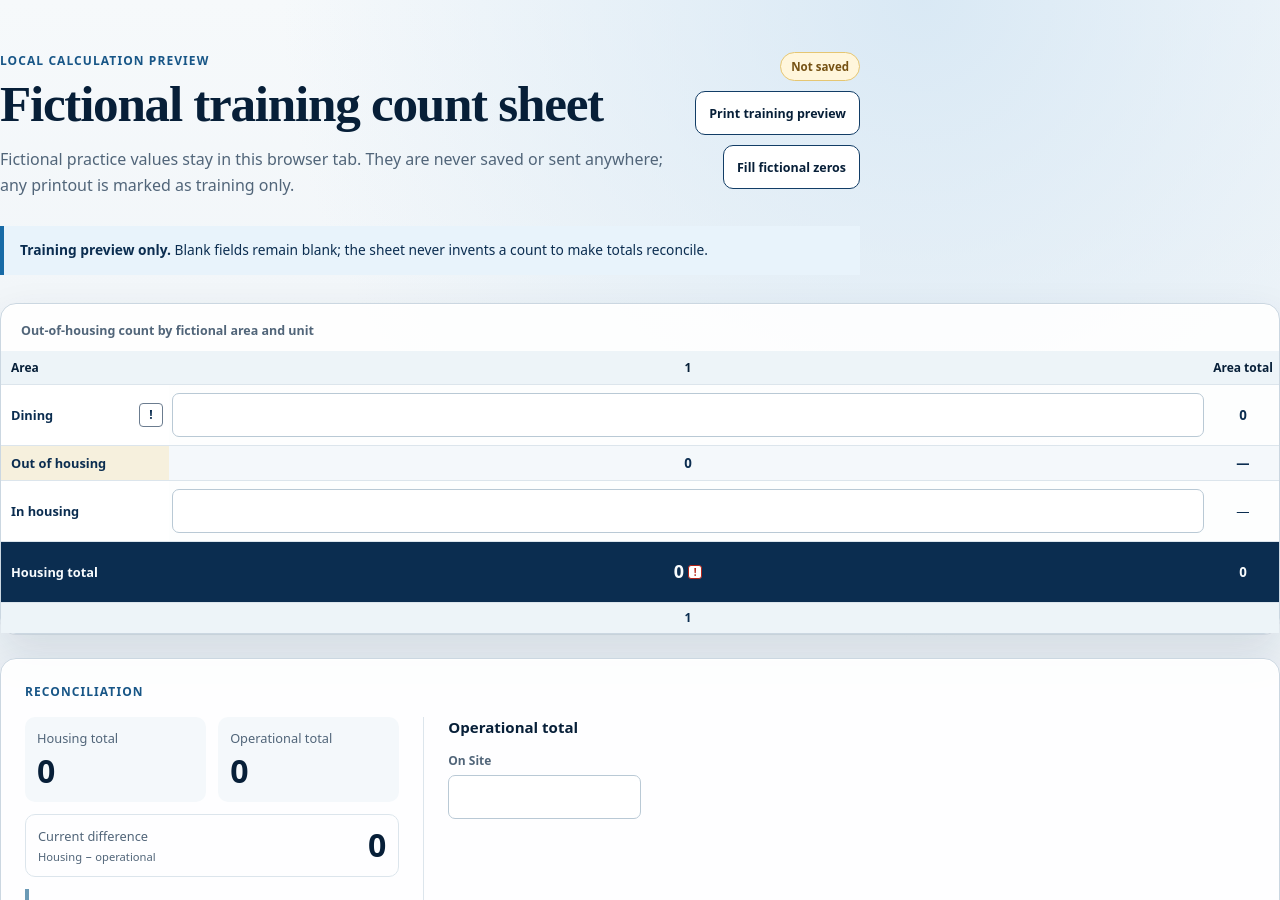
Test: CountSheetPreview › keeps an unresolved difference visible instead of changing input values
In the field named "Dining, 1": (688,415) [172, 393, 1204, 437], type "0"
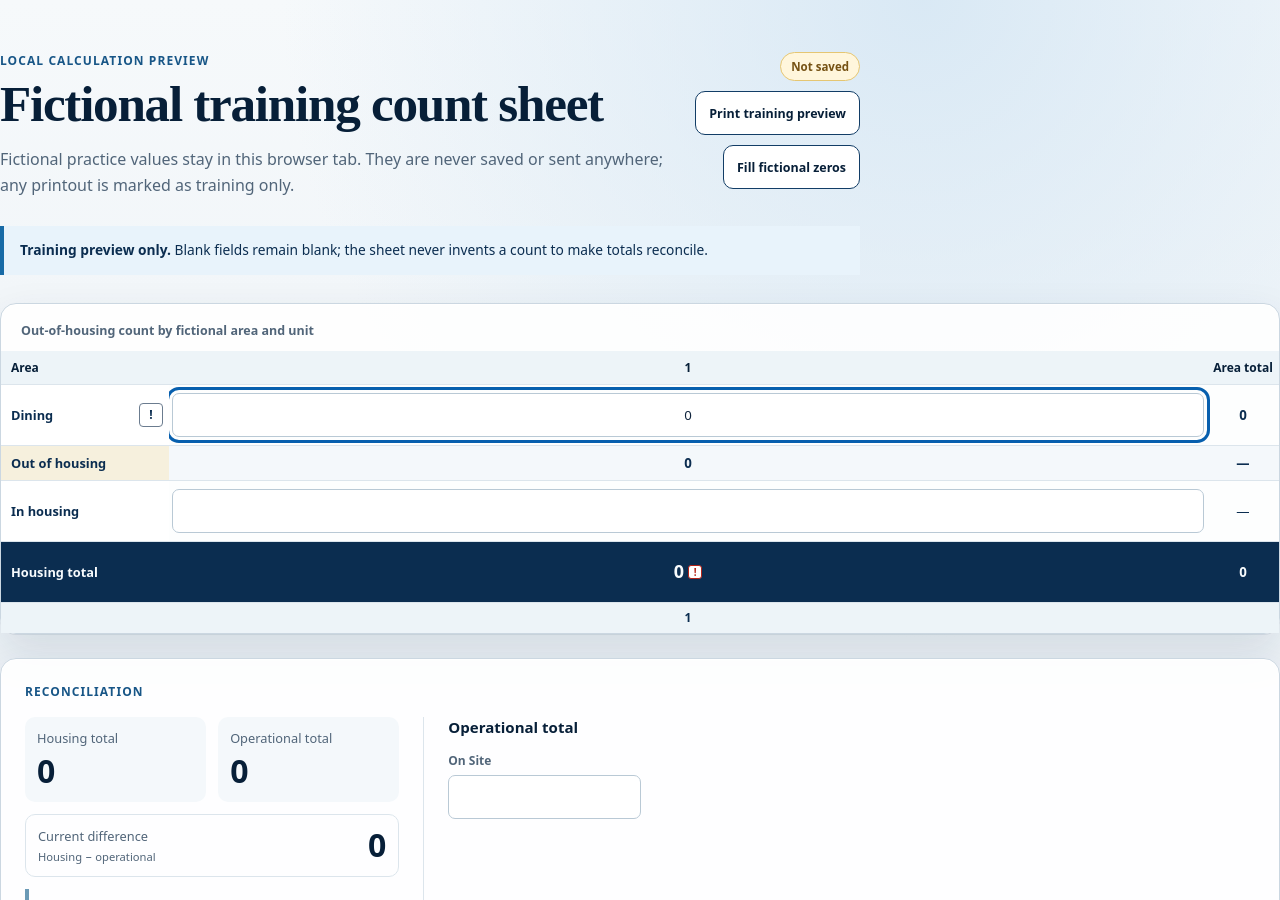
In the field named "In housing, 1": (688,511) [172, 489, 1204, 533], type "8"
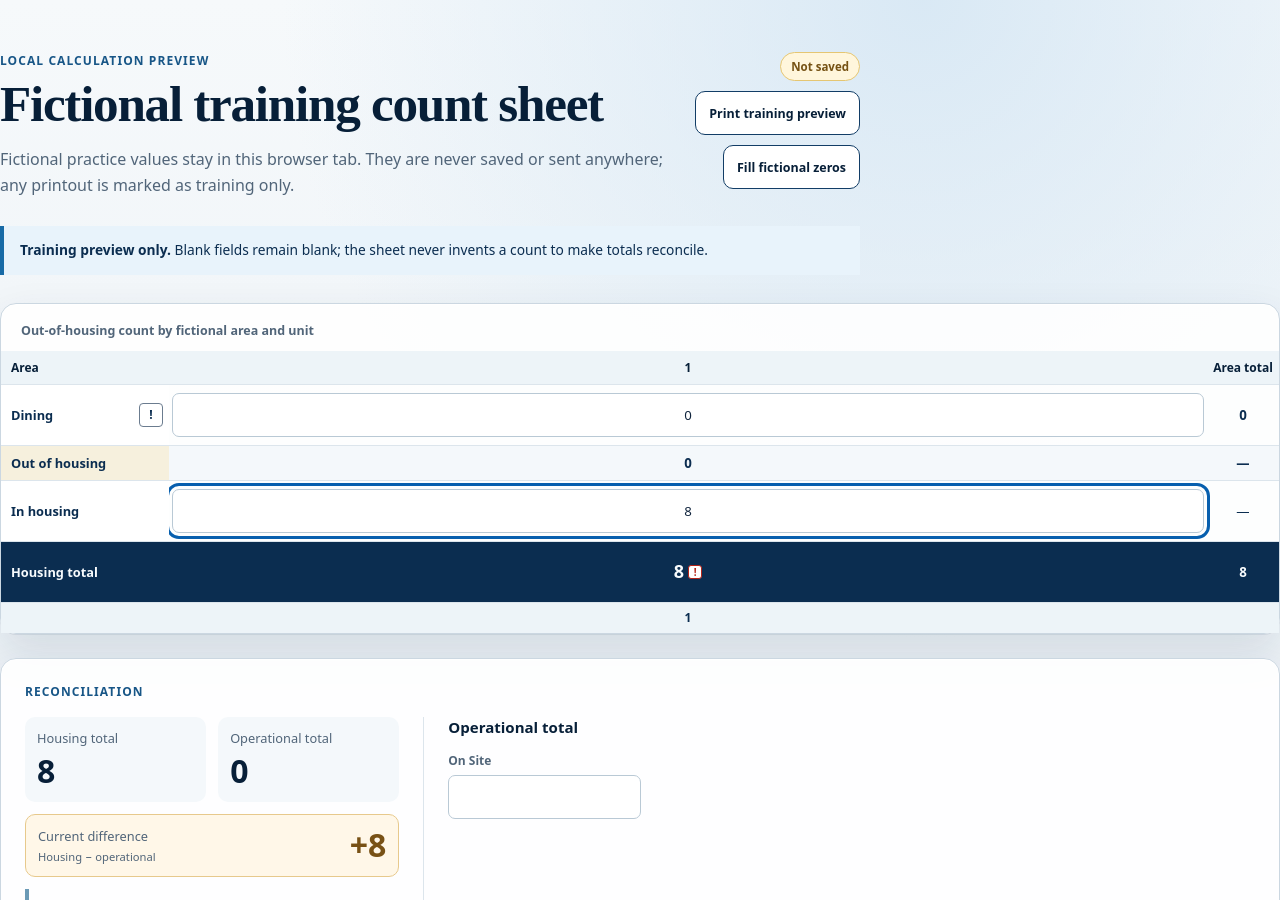
In the field named "Operational total, on site": (545,797) [448, 775, 641, 819], type "5"
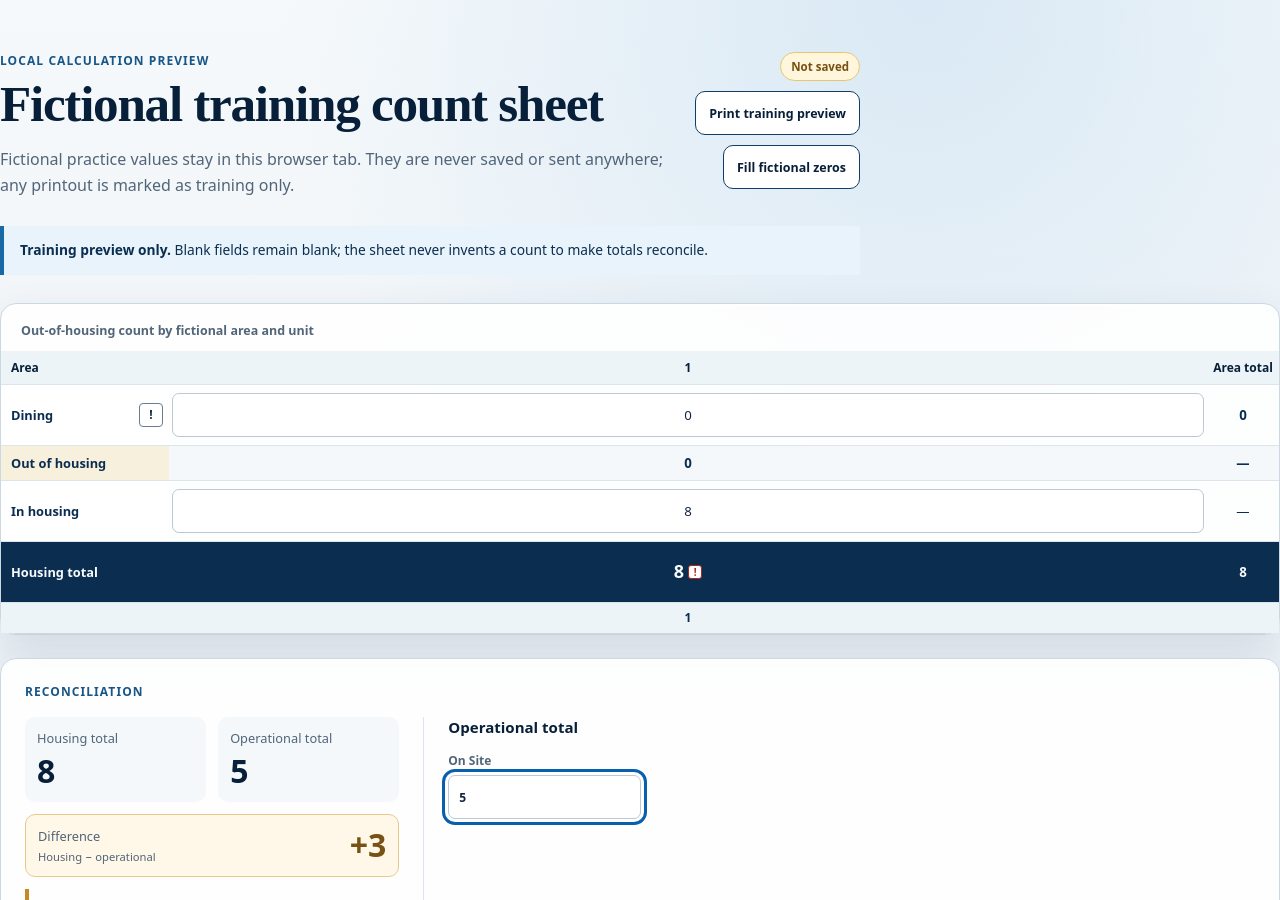
Expected: the text "Difference" is shown, [38, 827, 100, 845]
Expected: the text "+3" is shown, [350, 827, 386, 864]
Replace the text in the field named "Operational total, on site" with "10": (545,797) [448, 775, 641, 819]
(page scrolled)
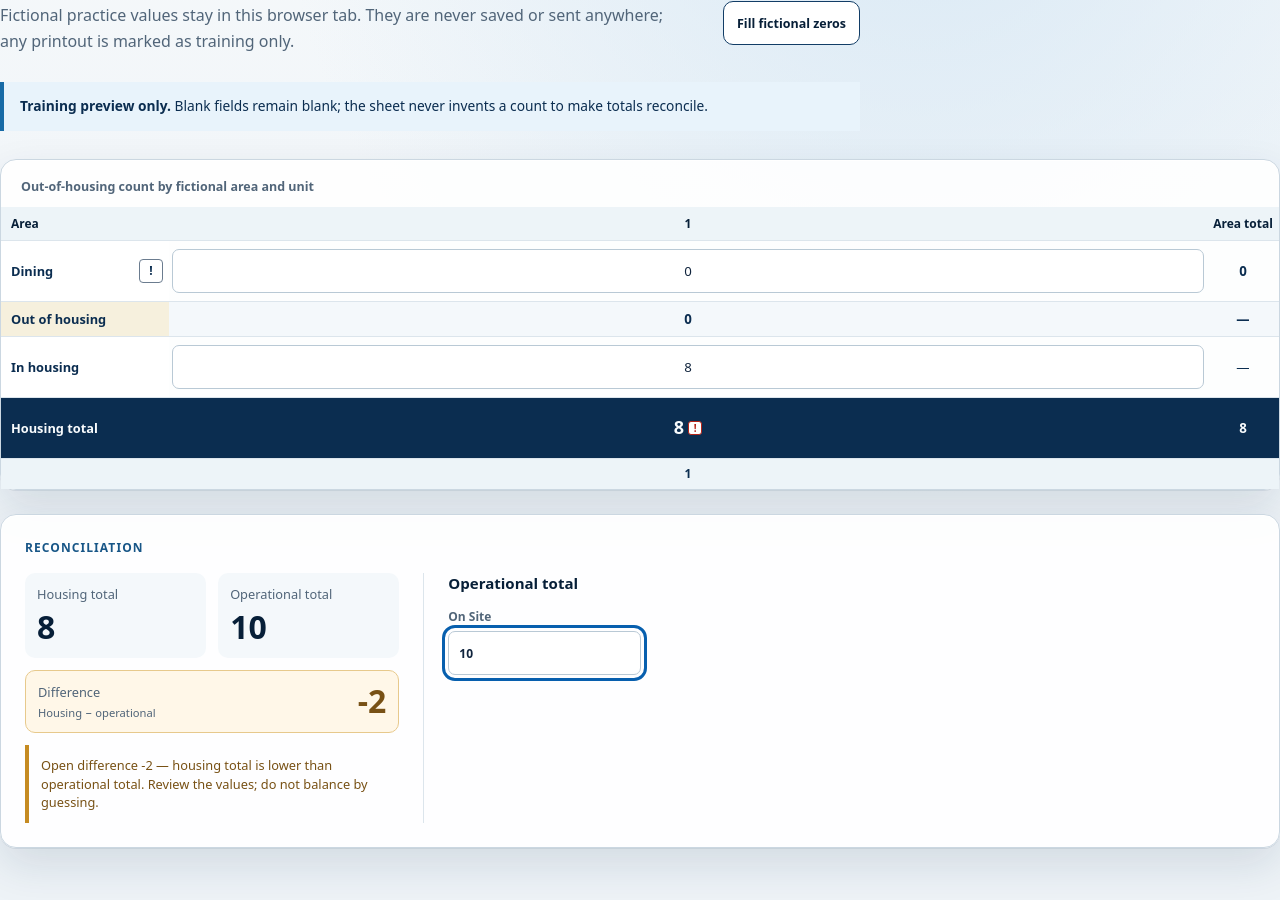
Expected: the text "Open difference -2 — housing total is lower than operational total. Review the values; do not balance by guessing." is shown, [41, 756, 368, 811]
